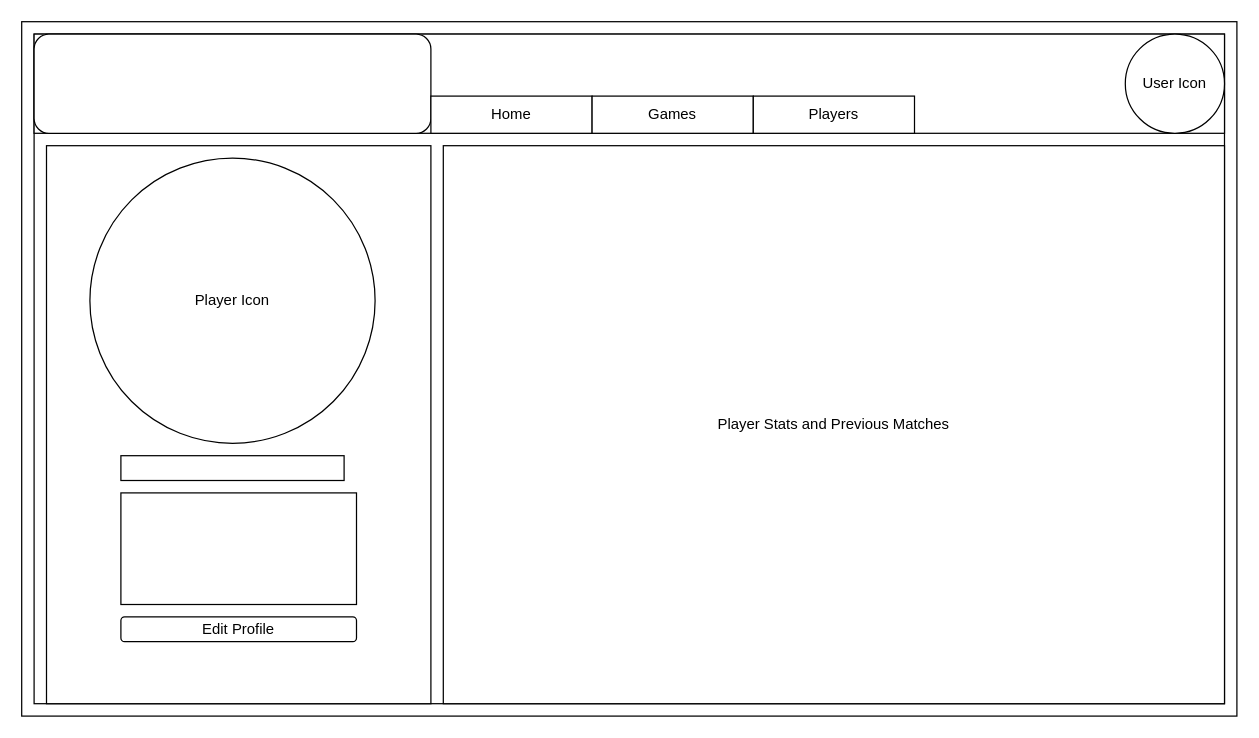
Some shapes in this 1259 by 738 pixel diagram are drawn without their labels. The centre of each missing label's shape, as x and y in pixels:
"Player Description" belongs at (x=238, y=548).
"User Name" belongs at (x=232, y=467).
"Website Logo" belongs at (x=232, y=83).
